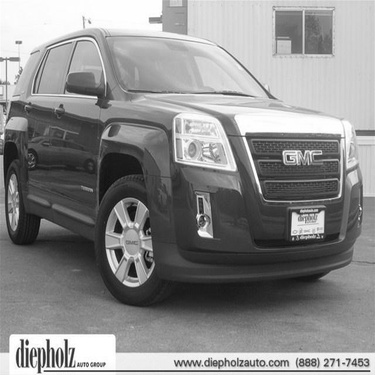car: (1, 21, 369, 313), (17, 130, 100, 177)
